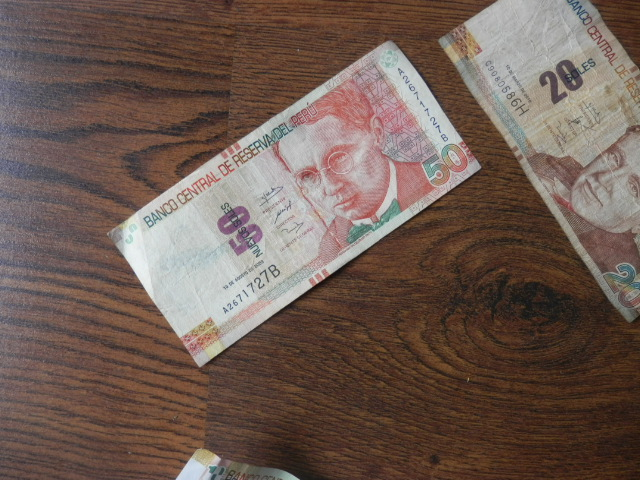B20: (423, 1, 640, 335)
B50: (106, 54, 486, 369)
